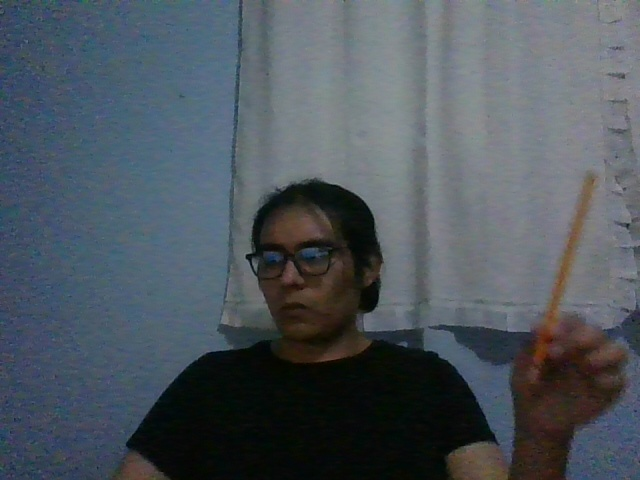lapiz: (525, 168, 598, 385)
